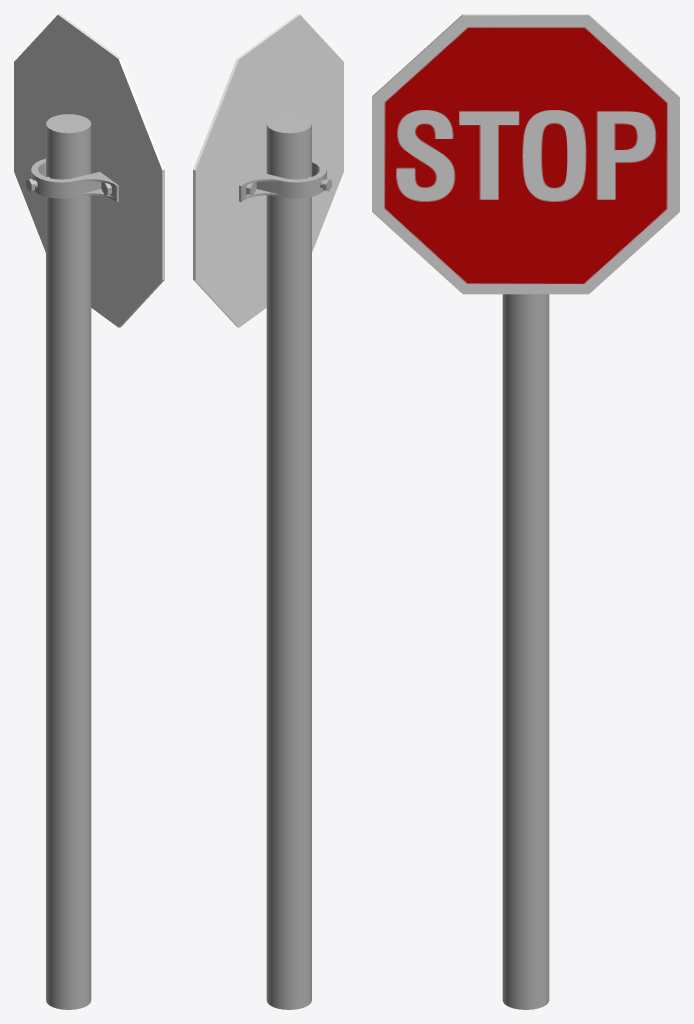
File: Stop_Sign.fbx
The picture shows the model from 3 angles, left to right: view 1: azimuth 30°, elevation 25°; view 2: azimuth 150°, elevation 25°; view 3: azimuth 270°, elevation 25°; orthographic projection. The views are drawn at different scales.
Parts seen in each view (by area): view 1: Group9, Group8, Group7; view 2: Group9, Group8, Group7; view 3: Group8, Group9.
Part boxes in pixels (<box>): Group9: <box>46,114,91,1009</box>; Group8: <box>14,14,164,327</box>; Group7: <box>31,158,118,201</box>; Group9: <box>266,114,311,1009</box>; Group8: <box>193,14,343,327</box>; Group7: <box>239,158,326,201</box>; Group8: <box>372,14,679,294</box>; Group9: <box>502,294,549,1009</box>.
Bounding box in the file's own units: 151 × 2238 × 627.
